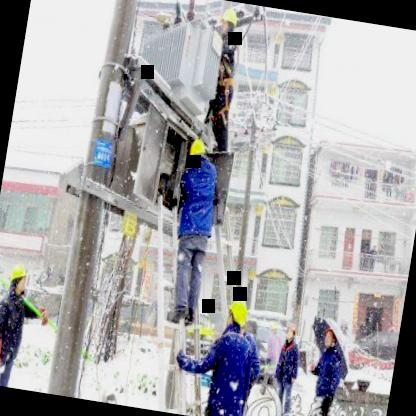helmet: (222, 295, 251, 337), (6, 258, 32, 296), (216, 5, 240, 37), (186, 134, 209, 166), (282, 320, 298, 342)
